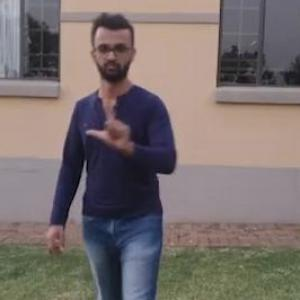land_hand: (83, 94, 140, 154)
